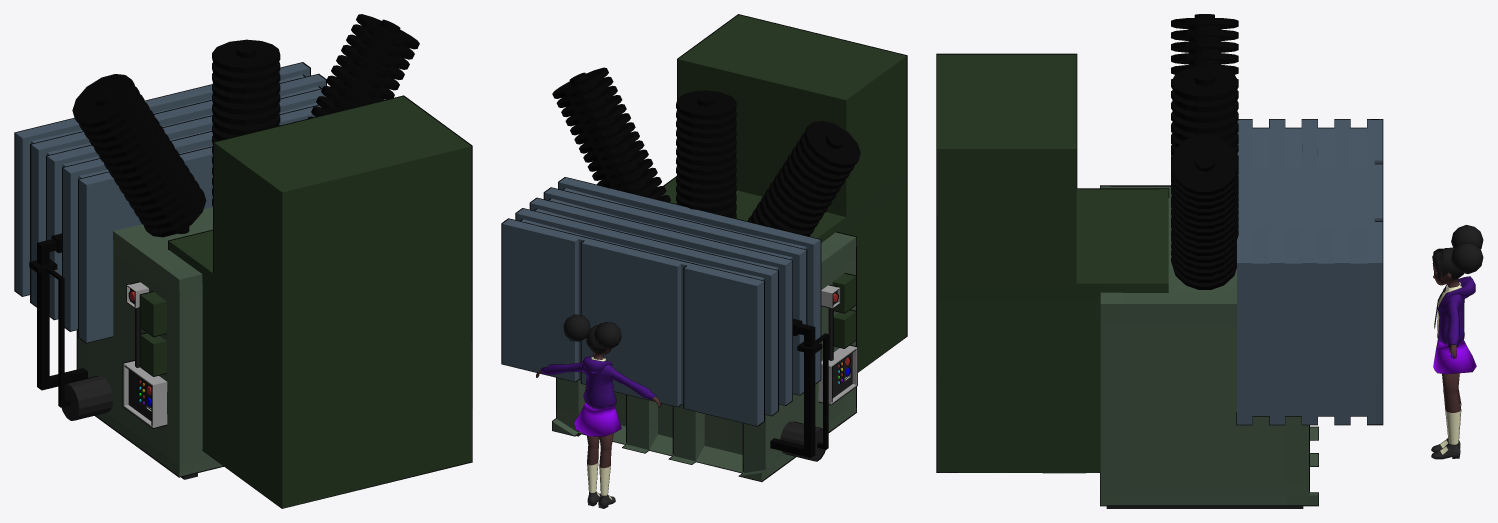
File: powerstation1.fbx
3 views of the same model, side by side, from view 1: azimuth 30°, elevation 25°; view 2: azimuth 150°, elevation 25°; view 3: azimuth 270°, elevation 25° (orthographic). The views are drawn at different scales.
Parts seen in each view (by area): view 1: Cube.005, Cube, Cube.002, Cube.003; view 2: Cube.002, Cube.005, Cube, Cylinder, Cube.003; view 3: Cube.005, Cube, Cube.002, Cylinder.
Boxes of the visible parts, left/top/right/bottom form: Cube.005: left=168, top=95, right=472, bottom=508; Cube: left=72, top=14, right=419, bottom=477; Cube.002: left=14, top=62, right=331, bottom=420; Cube.003: left=122, top=281, right=167, bottom=428; Cube.002: left=501, top=177, right=828, bottom=461; Cube.005: left=662, top=14, right=907, bottom=372; Cube: left=552, top=67, right=860, bottom=481; Cylinder: left=536, top=314, right=661, bottom=508; Cube.003: left=818, top=273, right=857, bottom=405; Cube.005: left=936, top=53, right=1169, bottom=473; Cube: left=1100, top=14, right=1318, bottom=506; Cube.002: left=1236, top=119, right=1383, bottom=425; Cylinder: left=1431, top=225, right=1483, bottom=459.
Size of the model in its own units: 285 by 298 by 391.
